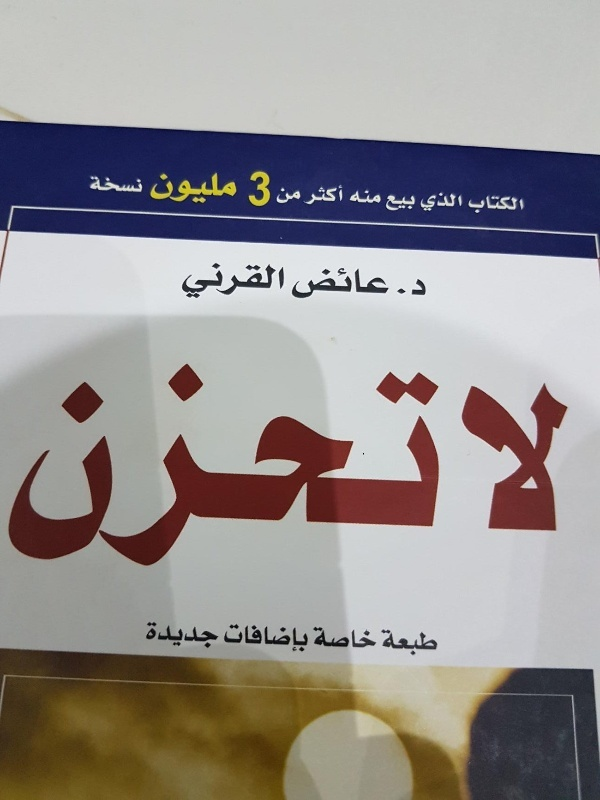text: (17, 362, 32, 567), (33, 362, 48, 567), (49, 362, 64, 567), (65, 362, 80, 567), (81, 362, 96, 567), (97, 362, 112, 567), (113, 362, 128, 567), (129, 362, 144, 567), (145, 362, 160, 567), (161, 362, 176, 567), (177, 362, 192, 567), (193, 362, 208, 567), (209, 362, 224, 567), (225, 362, 240, 567), (241, 362, 256, 567), (257, 362, 272, 567), (273, 362, 288, 567), (289, 362, 304, 567), (305, 362, 320, 567), (321, 362, 336, 567), (337, 362, 352, 567), (353, 362, 368, 567), (369, 362, 384, 567), (385, 362, 400, 567), (401, 362, 416, 567), (417, 362, 432, 567), (465, 381, 480, 532), (481, 381, 496, 532), (497, 381, 512, 532), (513, 381, 528, 532), (529, 381, 544, 532), (545, 381, 560, 532), (7, 362, 16, 567), (433, 362, 440, 567), (561, 381, 568, 532), (193, 263, 208, 299), (209, 263, 224, 299), (225, 263, 240, 299), (241, 263, 256, 299), (257, 263, 272, 299), (257, 171, 271, 207), (161, 173, 176, 205), (177, 173, 192, 205), (193, 173, 208, 205), (209, 173, 224, 205), (305, 268, 320, 299), (321, 268, 336, 299), (337, 268, 352, 299), (353, 268, 368, 299), (369, 268, 384, 299), (461, 381, 464, 532), (225, 622, 240, 652), (241, 622, 256, 652), (257, 622, 272, 652), (273, 622, 288, 652), (289, 622, 304, 652), (161, 622, 176, 650), (177, 622, 192, 650), (193, 622, 208, 650), (385, 629, 400, 656), (401, 629, 416, 656), (417, 629, 432, 656), (291, 268, 304, 299), (181, 263, 192, 299), (273, 263, 284, 299), (146, 622, 160, 650), (225, 173, 237, 205), (321, 627, 336, 649), (337, 627, 352, 649), (353, 627, 368, 649), (433, 191, 448, 212), (321, 185, 336, 206), (449, 191, 463, 212), (248, 171, 256, 207), (151, 173, 160, 205), (481, 196, 496, 215), (497, 196, 512, 215), (209, 622, 219, 650), (307, 185, 320, 206), (97, 175, 112, 193), (113, 175, 128, 193), (385, 195, 400, 212), (129, 175, 143, 193), (401, 195, 415, 212), (421, 191, 432, 212), (513, 196, 525, 215), (353, 189, 368, 204), (469, 196, 480, 215), (289, 187, 301, 204), (369, 189, 382, 204), (277, 187, 288, 204), (369, 627, 377, 649), (417, 279, 427, 296), (433, 629, 439, 656), (385, 268, 390, 299), (313, 627, 320, 649), (337, 185, 343, 206), (305, 622, 309, 652), (91, 175, 96, 193), (411, 279, 416, 296), (381, 629, 384, 656), (401, 287, 407, 296), (349, 189, 352, 204), (397, 287, 400, 296)
